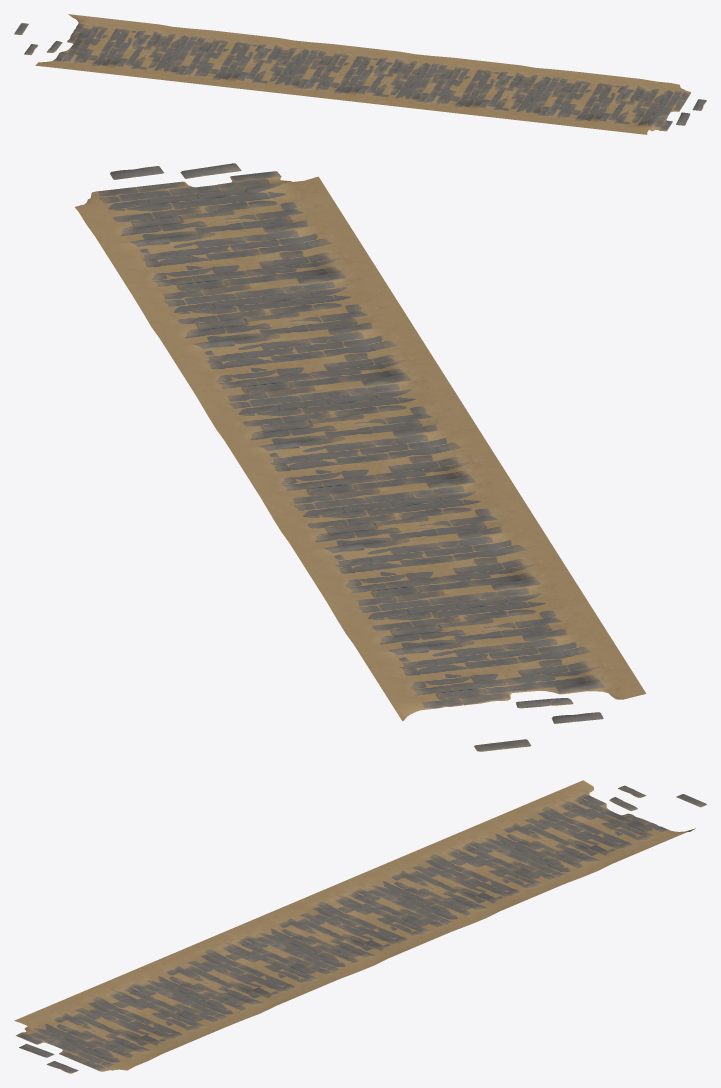
Rendered from SM_ENV_LKNVLD_Ground_Left_RoadToGarden_01.FBX.
3 renders of one model, top to bottom at view 1: azimuth 30°, elevation 25°; view 2: azimuth 150°, elevation 25°; view 3: azimuth 270°, elevation 25°, orthographic. The views are drawn at different scales.
Parts seen in each view (by area): view 1: SM_ENV_LKNVLD_Ground_Left_RoadToGarden_01; view 2: SM_ENV_LKNVLD_Ground_Left_RoadToGarden_01; view 3: SM_ENV_LKNVLD_Ground_Left_RoadToGarden_01.
Boxes of the visible parts, x1,y1,x2,y2 form: SM_ENV_LKNVLD_Ground_Left_RoadToGarden_01: (14, 14, 706, 134); SM_ENV_LKNVLD_Ground_Left_RoadToGarden_01: (75, 163, 646, 751); SM_ENV_LKNVLD_Ground_Left_RoadToGarden_01: (14, 780, 706, 1073).
Bounding box in the file's own units: 2237 × 11.01 × 2249.
